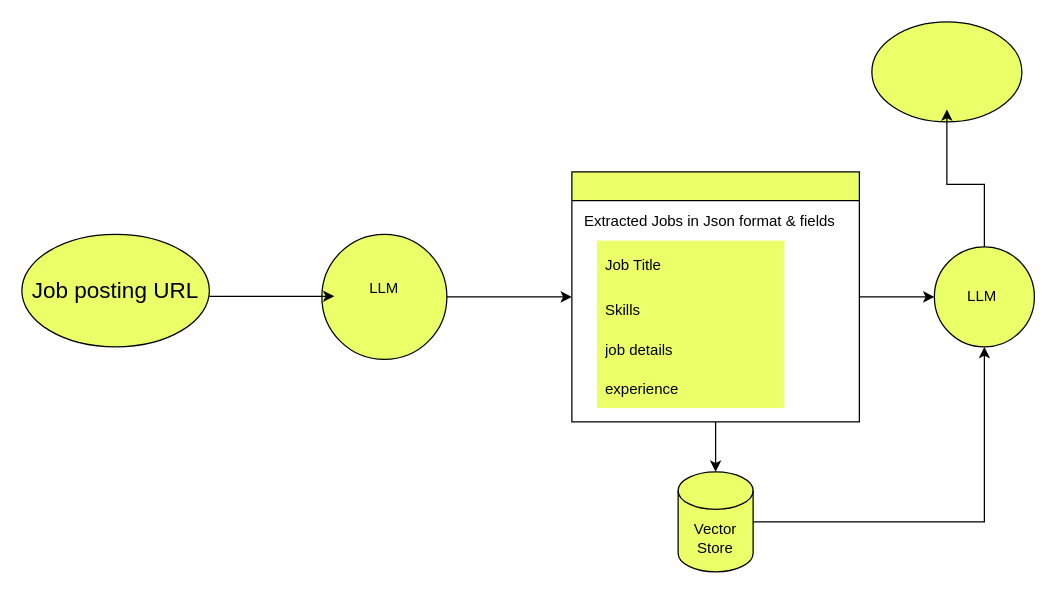
Image size: 1056x594. Some labels were removed from this diagram. The box of each missing label's shape, as (x1, y1, x2, y2) in pixels:
Cold Mails: (871, 21, 1022, 122)
Extracted Info!: (571, 171, 859, 422)
